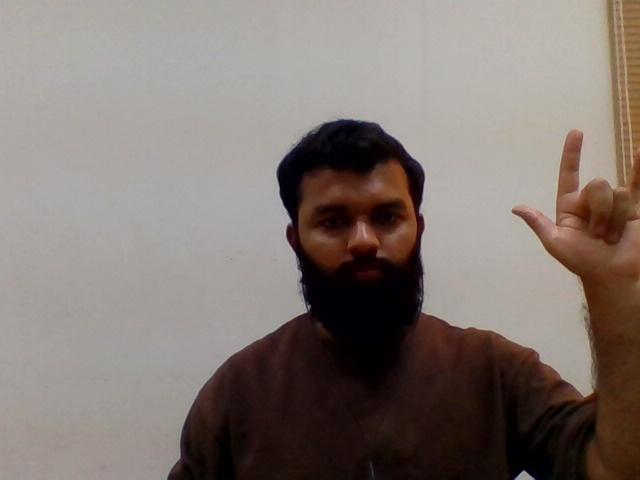I Love you: (509, 118, 640, 286)
